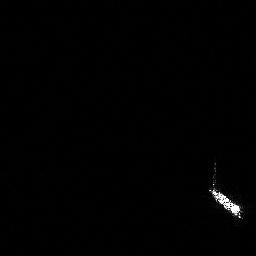ship: (205, 183, 247, 223)
